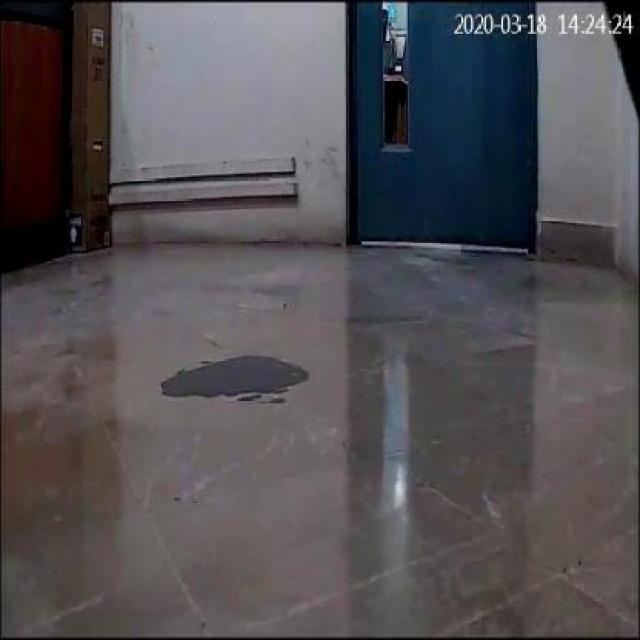spill: (154, 352, 308, 406)
